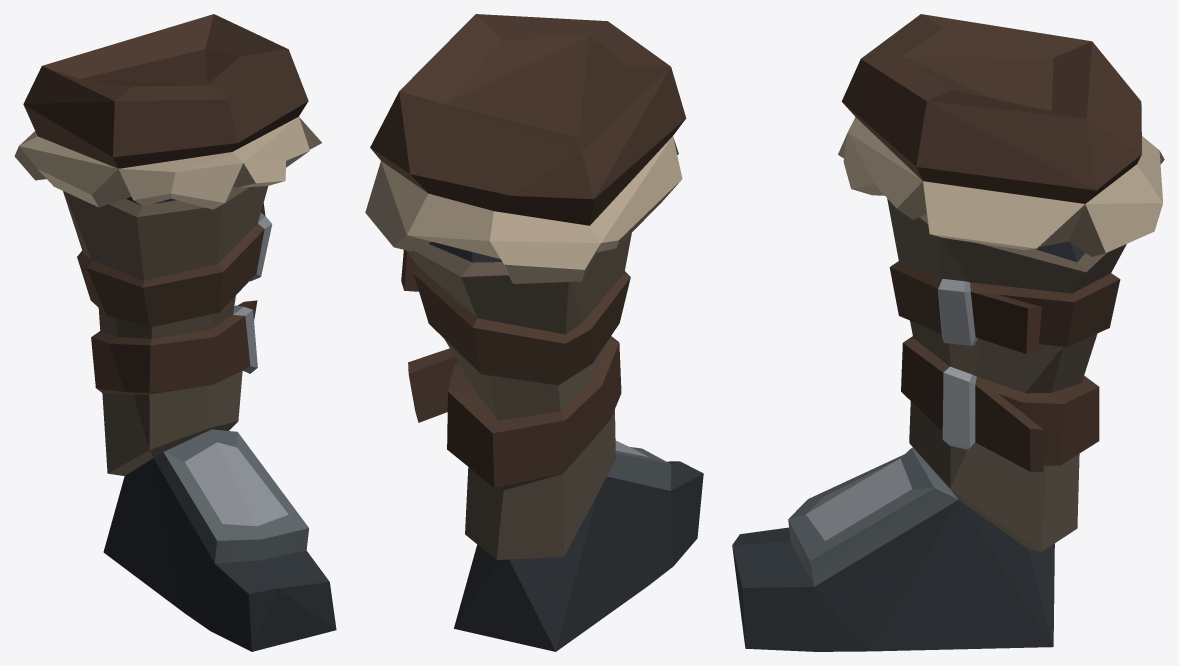
File: Chr_LegLeft_Female_09_Static.fbx
3 views of the same model, side by side, from view 1: azimuth 30°, elevation 25°; view 2: azimuth 150°, elevation 25°; view 3: azimuth 270°, elevation 25° (orthographic). The views are drawn at different scales.
Visible parts, largest first — view 1: Chr_LegLeft_Female_09_Static; view 2: Chr_LegLeft_Female_09_Static; view 3: Chr_LegLeft_Female_09_Static.
Boxes of the visible parts, x1=… form: Chr_LegLeft_Female_09_Static: x1=14, y1=14, x2=336, y2=651; Chr_LegLeft_Female_09_Static: x1=365, y1=14, x2=703, y2=651; Chr_LegLeft_Female_09_Static: x1=732, y1=14, x2=1164, y2=651.
Size of the model in its own units: 0.19 by 0.4033 by 0.2794.
